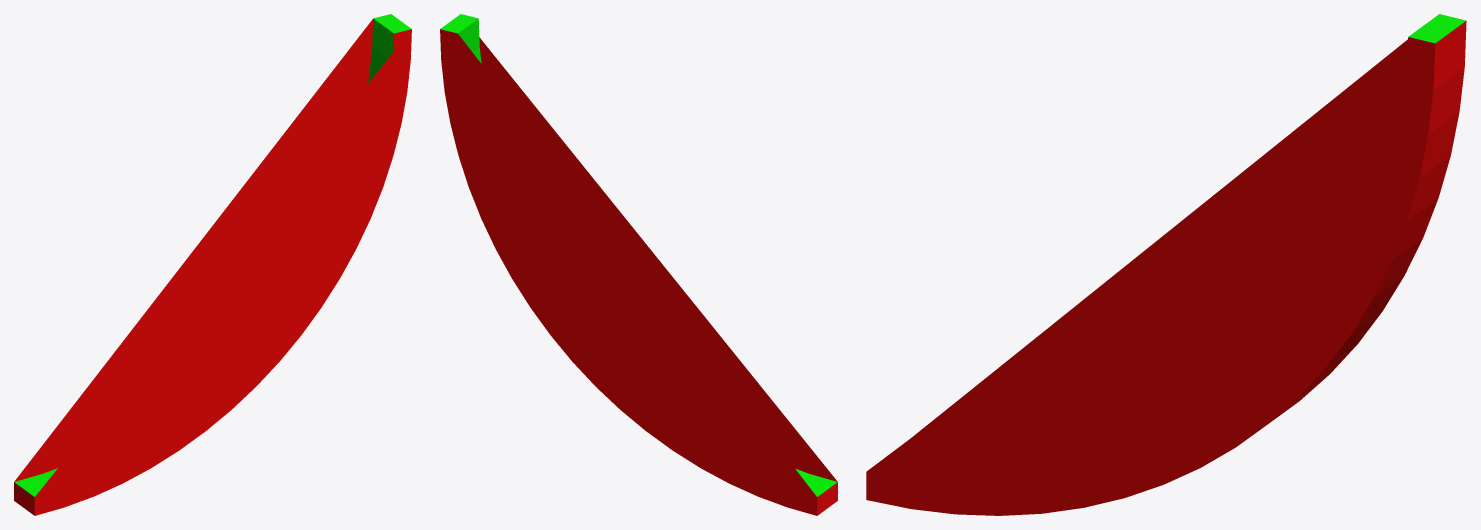
The model's file is SegmentUp3.fbx.
The picture shows the model from 3 angles, left to right: view 1: azimuth 30°, elevation 25°; view 2: azimuth 150°, elevation 25°; view 3: azimuth 330°, elevation 25°; orthographic projection. The views are drawn at different scales.
Parts seen in each view (by area): view 1: Up_4; view 2: Up_4; view 3: Up_4.
Boxes of the visible parts, x1,y1,x2,y2 form: Up_4: (14,14,411,515); Up_4: (440,14,837,515); Up_4: (866,14,1466,515).
Bounding box in the file's own units: 2100 × 2100 × 200.
